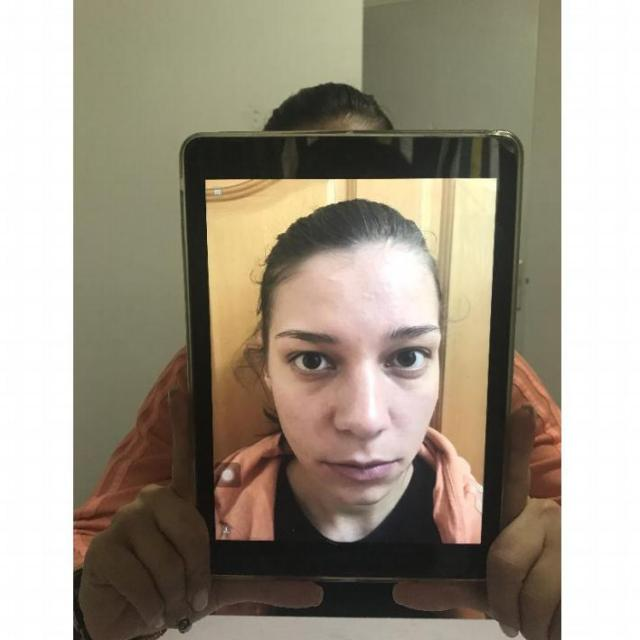device: (169, 126, 528, 596)
